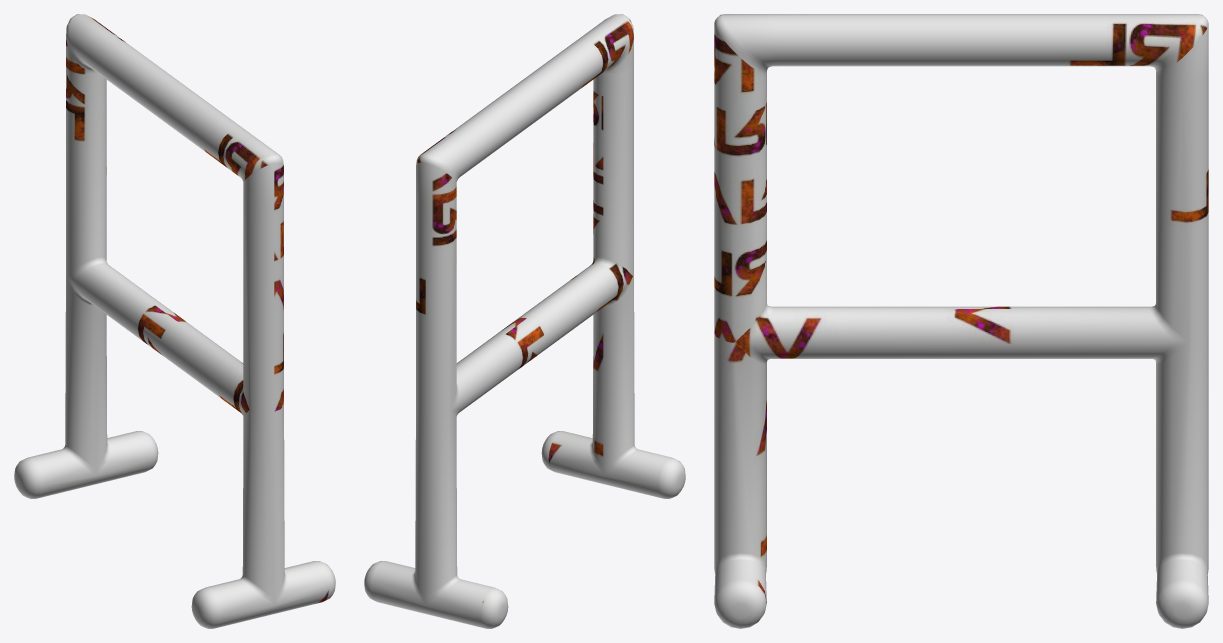
File: vrl_gate5.glb
3 renders of one model, left to right at view 1: azimuth 30°, elevation 25°; view 2: azimuth 150°, elevation 25°; view 3: azimuth 270°, elevation 25°, orthographic. The views are drawn at different scales.
Visible parts, largest first — view 1: VRL_Gate5; view 2: VRL_Gate5; view 3: VRL_Gate5.
Part boxes in pixels (left/top/right/bottom): VRL_Gate5: left=14, top=14, right=335, bottom=628; VRL_Gate5: left=364, top=14, right=685, bottom=628; VRL_Gate5: left=714, top=14, right=1208, bottom=628.
Size of the model in its own units: 1.25 by 4.13 by 3.21.
1 material, 1 textured.
